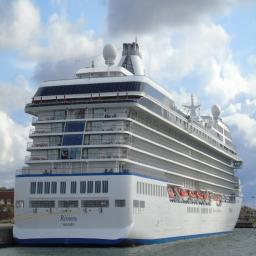cruises: (11, 36, 249, 243)
